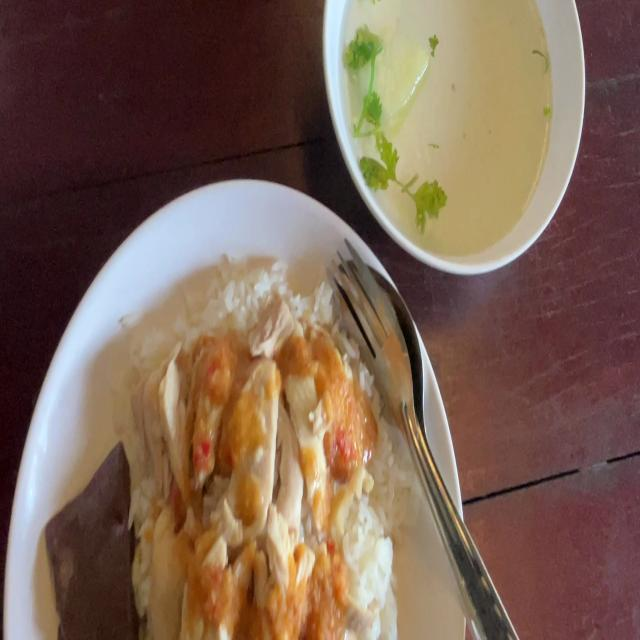boiled_chicken: (124, 334, 373, 626)
boiled_chicken_blood_jelly: (47, 438, 134, 640)
chicken_rice: (37, 259, 396, 640)
